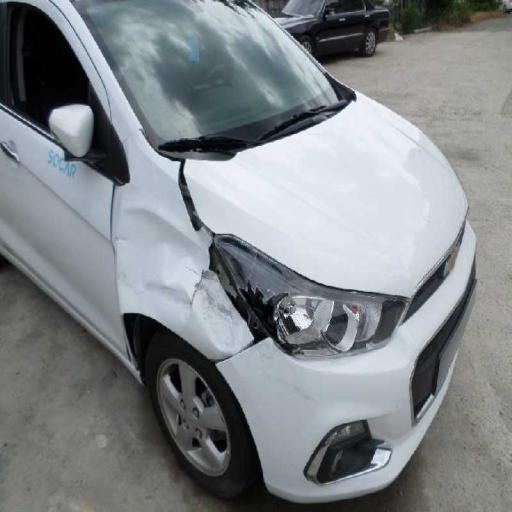broken: (128, 109, 255, 268)
dent: (108, 192, 234, 350)
